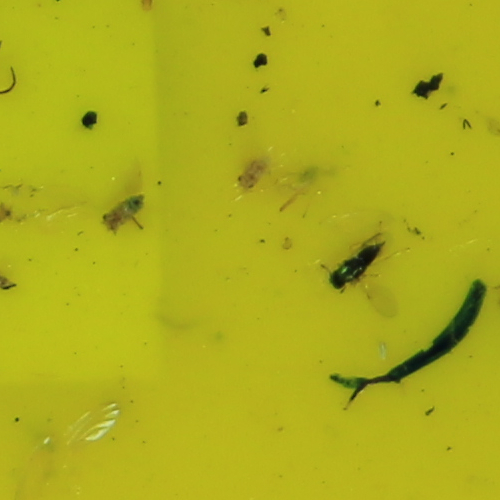psylla: (100, 195, 147, 233)
wasp: (321, 239, 387, 292)
